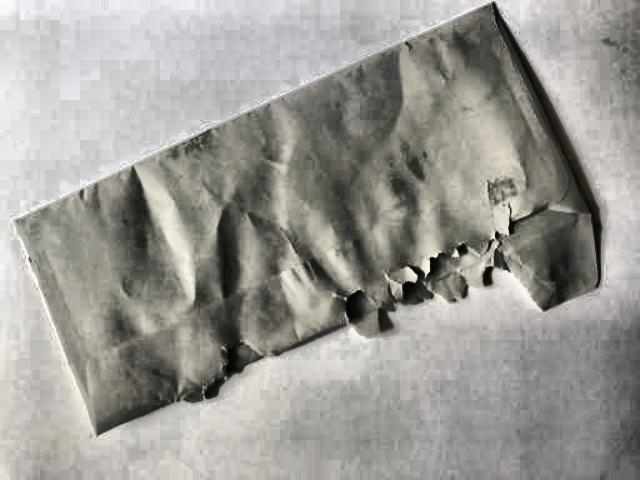Paper: (0, 3, 607, 425)
